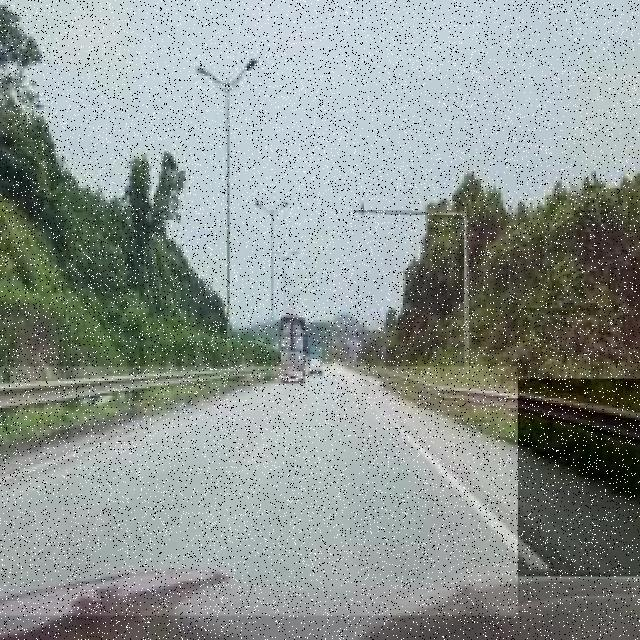clear-road: (0, 368, 518, 600), (367, 380, 640, 576)
